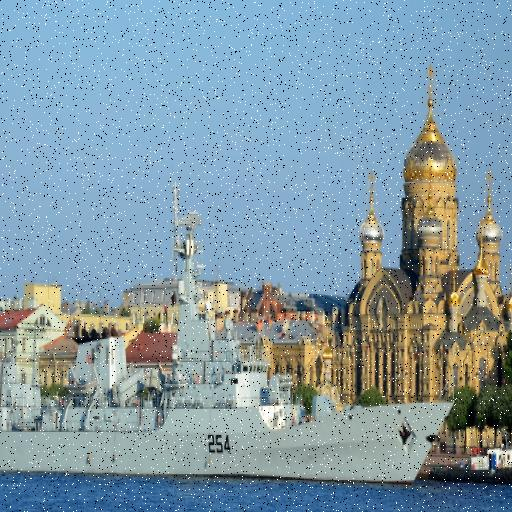Fragata: (1, 169, 456, 473)
